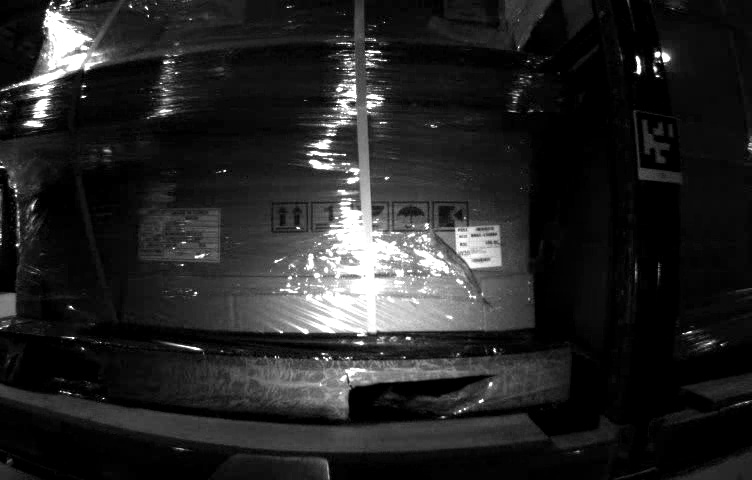True Barcode: (453, 224, 504, 267)
